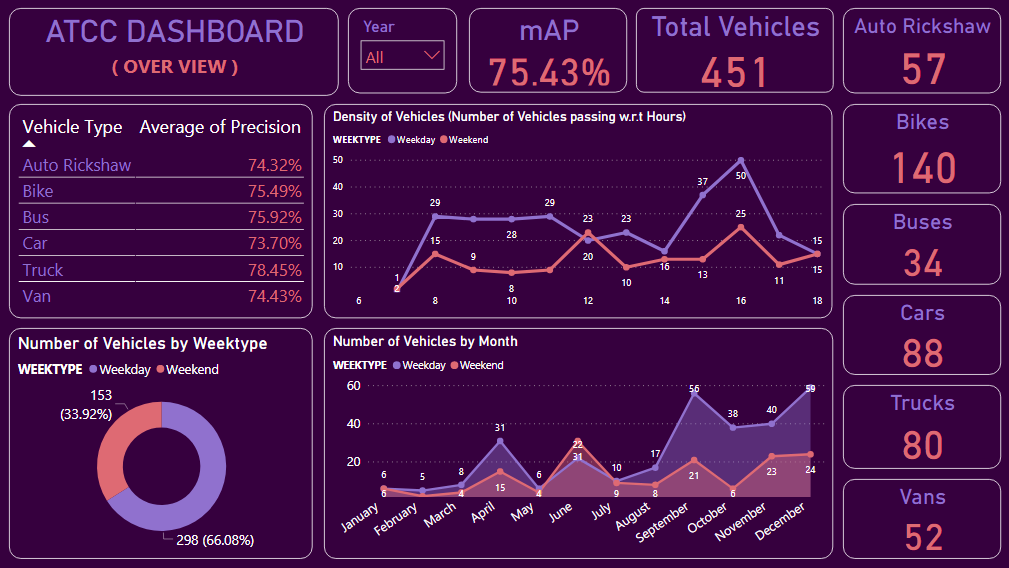

What the dashboard file says about the page in this screenshot:
{"tool":"powerbi","page":{"name":"ATCC","canvas":[1280,720],"ordinal":0},"visuals":[{"type":"card","title":"Total Vehicles","fields":{"Values":["CountNonNull(VEHICLES.Vehicle Type)"]},"box":[808,10.7,250.3,107.3],"z":0},{"type":"card","title":"Auto Rickshaw","fields":{"Values":["CountNonNull(VEHICLES.Vehicle Type)"]},"box":[1070,10.1,199.8,107.5],"z":1000},{"type":"card","title":"Bikes","fields":{"Values":["CountNonNull(VEHICLES.Vehicle Type)"]},"box":[1070,131.5,199.8,112.6],"z":2000},{"type":"card","title":"Buses","fields":{"Values":["CountNonNull(VEHICLES.Vehicle Type)"]},"box":[1070,258,199.8,102.5],"z":3000},{"type":"card","title":"Cars","fields":{"Values":["CountNonNull(VEHICLES.Vehicle Type)"]},"box":[1070,373.1,199.8,101.2],"z":4000},{"type":"card","title":"Trucks","fields":{"Values":["CountNonNull(VEHICLES.Vehicle Type)"]},"box":[1070,487,199.8,106.2],"z":5000},{"type":"card","title":"Vans","fields":{"Values":["CountNonNull(VEHICLES.Vehicle Type)"]},"box":[1070,605.8,199.8,101.2],"z":6000},{"type":"donutChart","title":"Number of Vehicles by Weektype","fields":{"Category":["VEHICLES.WEEKTYPE"],"Y":["CountNonNull(VEHICLES.Vehicle Type)"]},"box":[14.8,414.8,383.7,291.9],"z":7000},{"type":"areaChart","title":"Number of Vehicles by Month","fields":{"Category":["VEHICLES.Date.Variation.Date Hierarchy.Month"],"Y":["CountNonNull(VEHICLES.Vehicle Type)"],"Series":["VEHICLES.WEEKTYPE"]},"box":[413.3,414.8,644.4,291.9],"z":8000},{"type":"card","title":"mAP","fields":{"Values":["Avg(VEHICLES.Precision)"]},"box":[597.1,10.7,200.2,107.3],"z":9000},{"type":"lineChart","title":"Density of Vehicles (Number of Vehicles passing w.r.t Hours)","fields":{"Category":["VEHICLES.Hr"],"Y":["CountNonNull(VEHICLES.Vehicle Type)"],"Series":["VEHICLES.WEEKTYPE"]},"box":[413.3,131.9,643,271.1],"z":10000},{"type":"tableEx","fields":{"Values":["VEHICLES.Vehicle Type","Avg(VEHICLES.Precision)"]},"box":[15,132,384,271],"z":11000},{"type":"textbox","title":"ATCC DASHBOARD","box":[15.2,10.1,417.4,111.3],"z":12000},{"type":"slicer","fields":{"Values":["VEHICLES.Date.Variation.Date Hierarchy.Year"]},"box":[444,10.1,137.9,107.5],"z":13000}]}

Visuals, with their boxes in screenshot pixels (x1, y1, x2, y2), scaled from the page's 1280x720 canvas onto the 1009x568 screenshot:
"Total Vehicles" card: detection(637, 8, 834, 93)
"Auto Rickshaw" card: detection(843, 8, 1001, 93)
"Bikes" card: detection(843, 104, 1001, 193)
"Buses" card: detection(843, 204, 1001, 284)
"Cars" card: detection(843, 294, 1001, 374)
"Trucks" card: detection(843, 384, 1001, 468)
"Vans" card: detection(843, 478, 1001, 558)
"Number of Vehicles by Weektype" donutChart: detection(12, 327, 314, 558)
"Number of Vehicles by Month" areaChart: detection(326, 327, 834, 558)
"mAP" card: detection(471, 8, 628, 93)
"Density of Vehicles (Number of Vehicles passing w.r.t Hours)" lineChart: detection(326, 104, 833, 318)
tableEx - VEHICLES.Vehicle Type x Avg(VEHICLES.Precision): detection(12, 104, 315, 318)
"ATCC DASHBOARD" textbox: detection(12, 8, 341, 96)
slicer - VEHICLES.Date.Variation.Date Hierarchy.Year: detection(350, 8, 459, 93)
